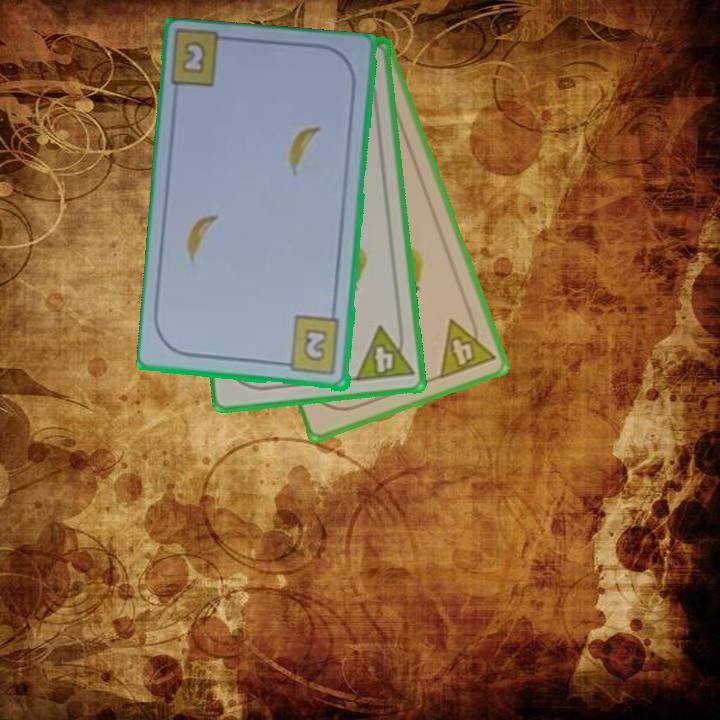2b: (278, 314, 343, 378), (181, 41, 207, 74)
4p: (435, 309, 498, 382), (352, 321, 417, 384)
